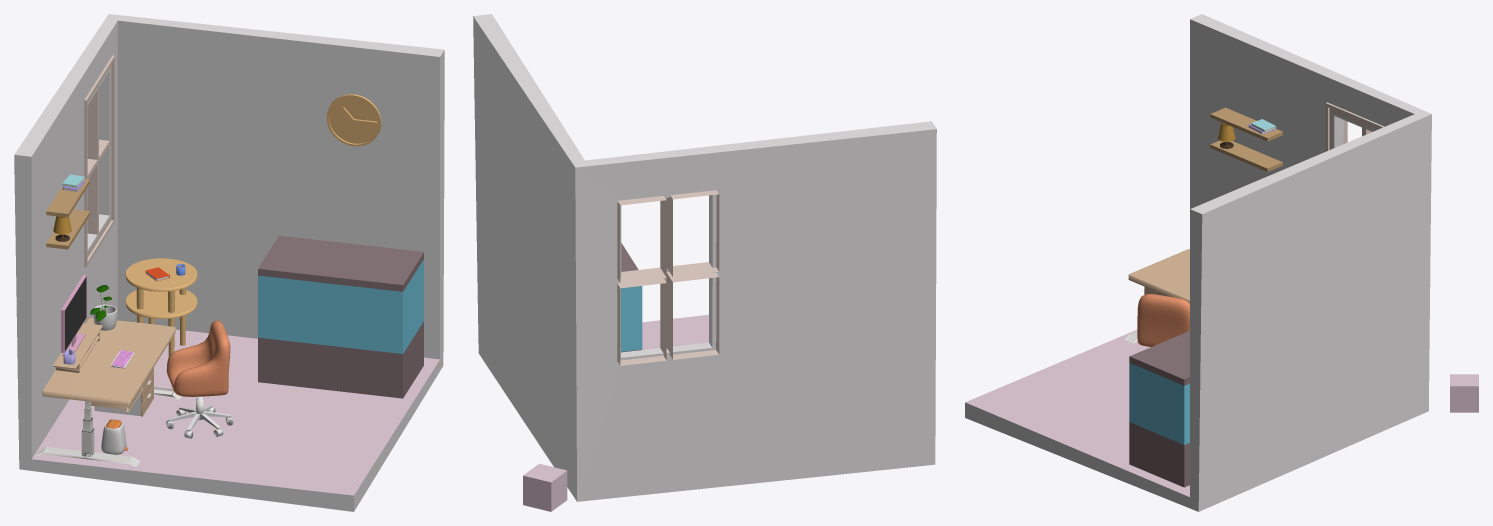
File: room-animation.glb
The picture shows the model from 3 angles, left to right: view 1: azimuth 30°, elevation 25°; view 2: azimuth 150°, elevation 25°; view 3: azimuth 270°, elevation 25°; orthographic projection. The views are drawn at different scales.
Parts seen in each view (by area): view 1: Body, Aquarium, Desks, Chair, Floor items, Table stufe, Clock, Shelves, Computer; view 2: Body, Cube, Aquarium; view 3: Body, Aquarium, Shelves, Chair, Desks, Cube.
Boxes of the visible parts, x1,y1,x2,y2 form: Body: (14,14,444,511); Aquarium: (258,235,423,398); Desks: (36,258,197,466); Chair: (166,320,230,396); Floor items: (94,367,233,454); Table stufe: (53,264,185,372); Clock: (326,94,381,146); Shelves: (46,174,89,249); Computer: (61,275,86,355); Body: (473,14,936,501); Cube: (523,463,567,511); Aquarium: (621,243,642,352); Body: (965,14,1431,511); Aquarium: (1129,331,1189,487); Shelves: (1210,107,1282,171); Chair: (1137,294,1189,347); Desks: (1124,249,1189,343); Cube: (1450,374,1478,412).
Bounding box in the file's own units: 13.25 × 9.37 × 14.36.
